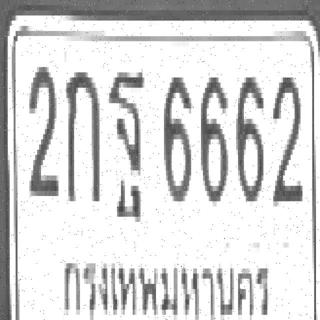A01: (64, 64, 98, 198)
A16: (106, 67, 144, 201)
N02: (26, 62, 56, 191), (271, 72, 300, 201)
N06: (199, 72, 226, 201), (234, 72, 261, 201), (162, 72, 189, 196)
P04: (62, 256, 274, 320)
